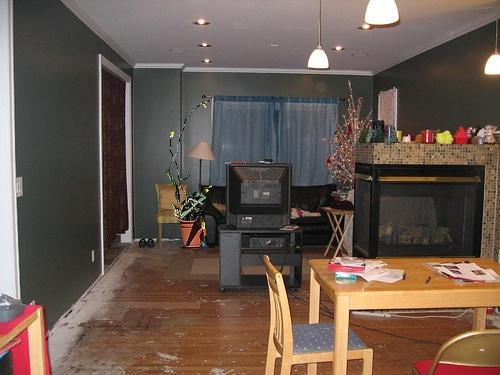tampered: (167, 101, 212, 249)
